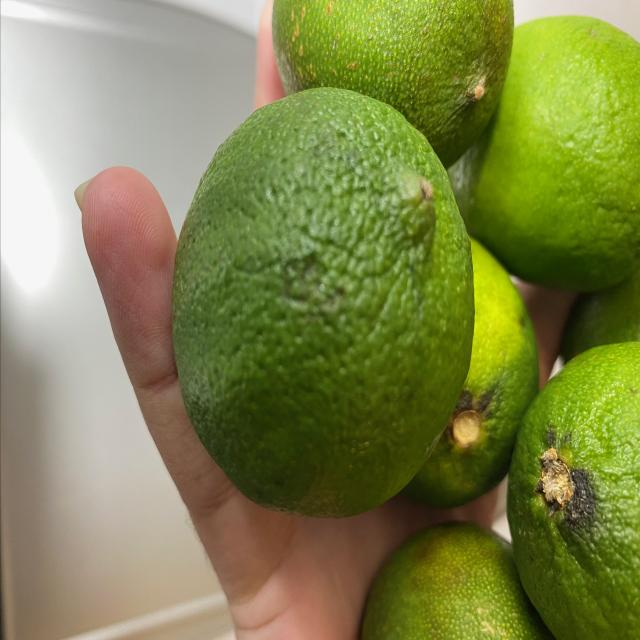lemon: (178, 0, 640, 635)
